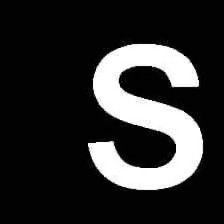LTR_S: (80, 37, 211, 198)
